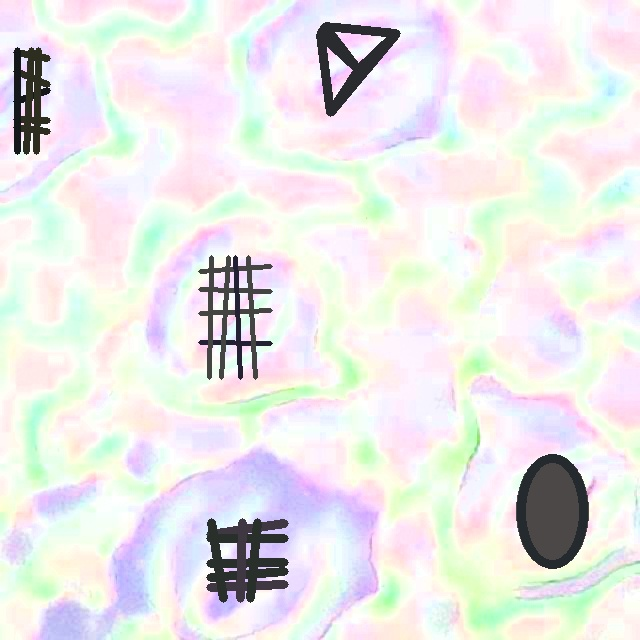open: (198, 255, 272, 379), (516, 454, 588, 568), (317, 22, 399, 116), (207, 518, 287, 602), (13, 47, 50, 154)
